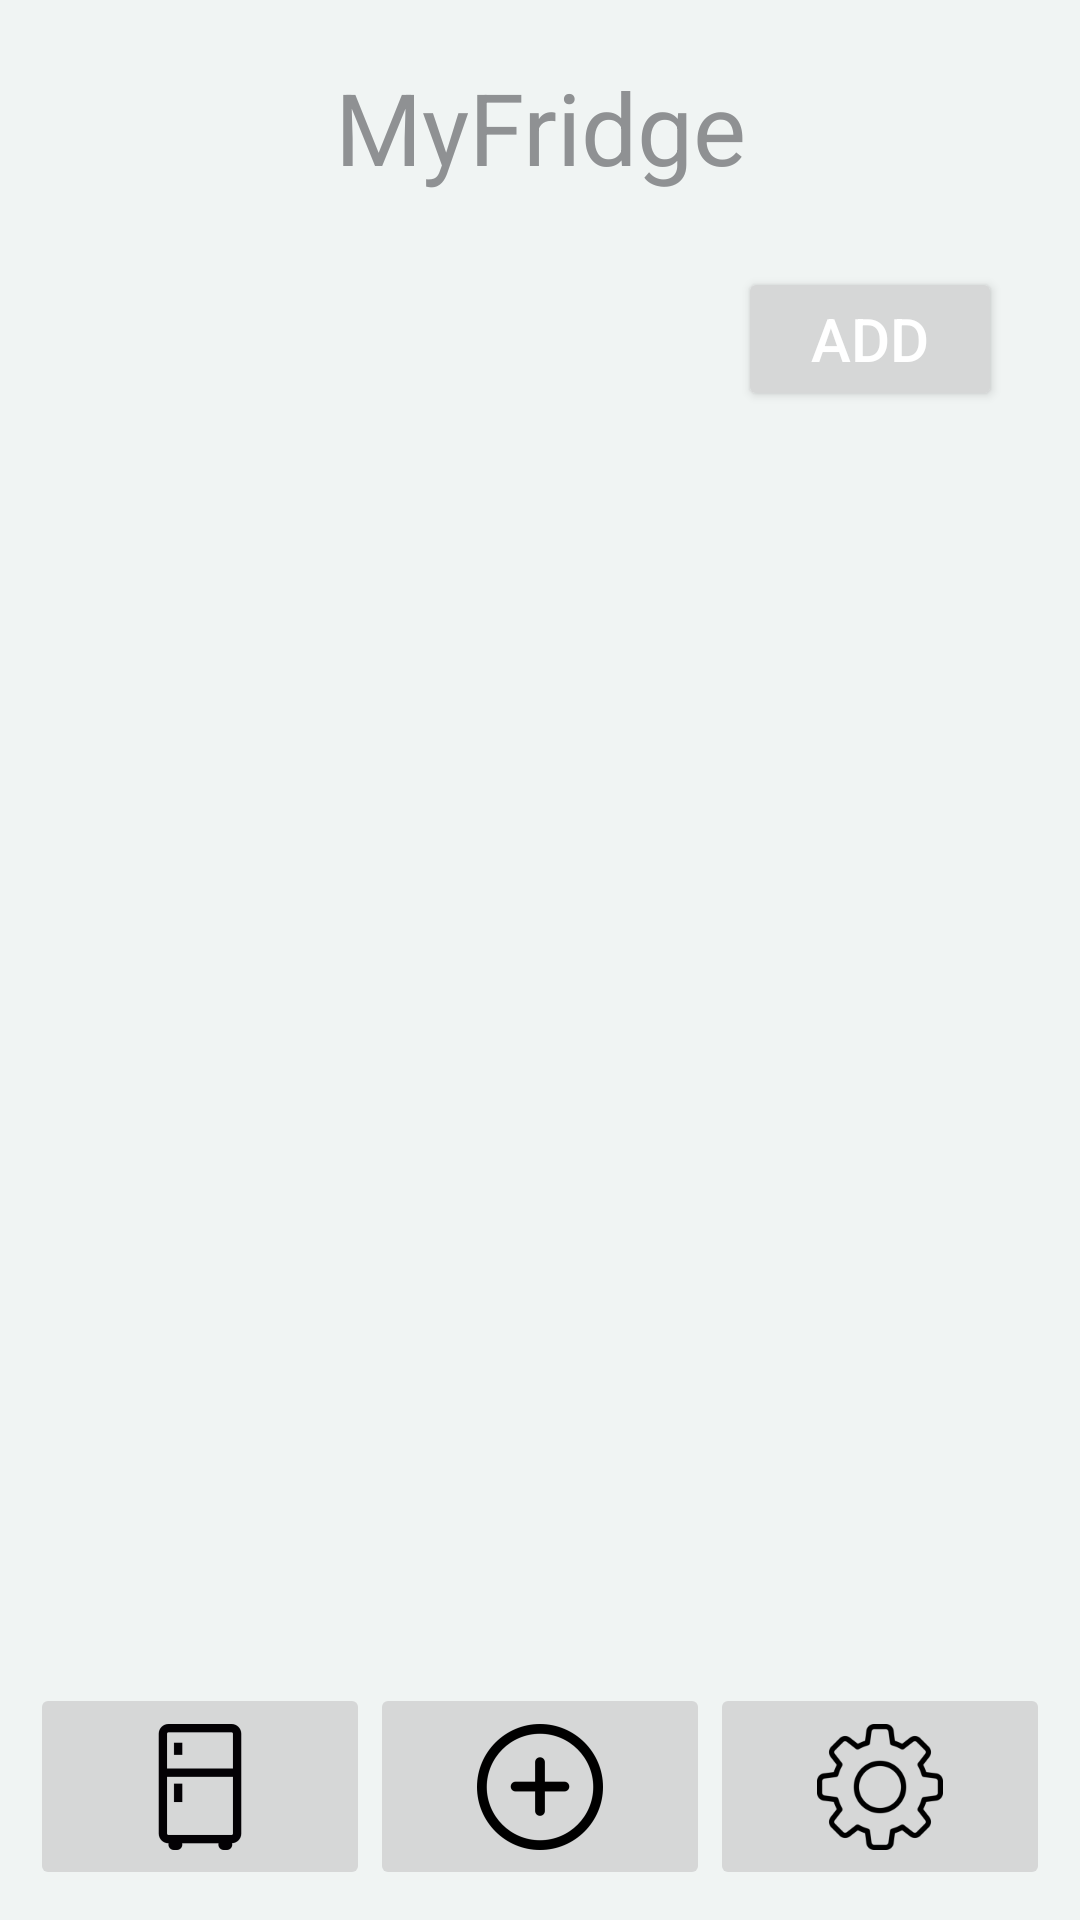

Where icons sit on this 1080 × 1920 app screen, as (x1, y1, x2, y2):
add: (382, 1701, 698, 1872)
fridge: (42, 1701, 358, 1872)
settings: (722, 1701, 1038, 1872)
